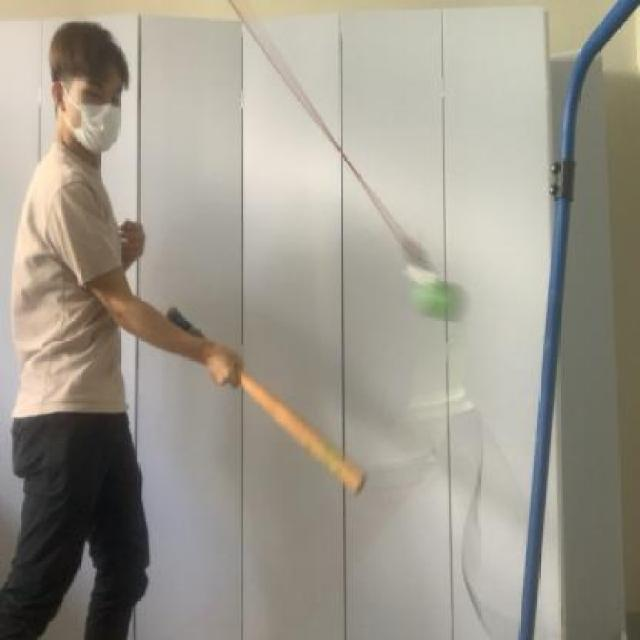baseball: (411, 263, 477, 332)
